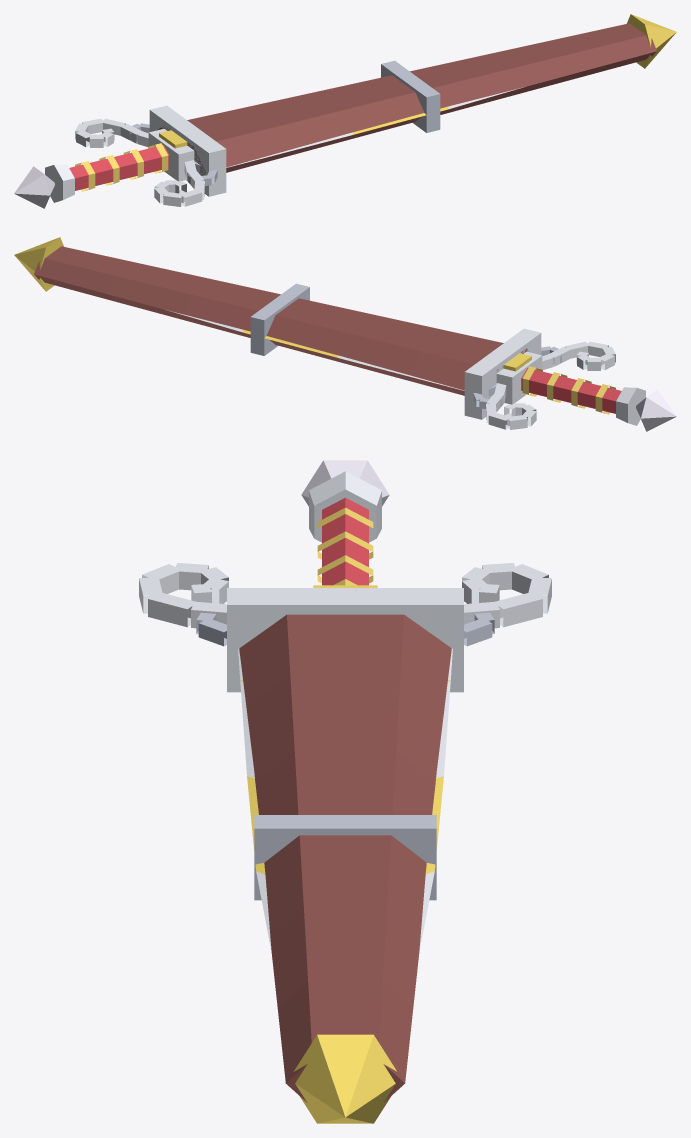
Rendered from gilded_sword.glb.
3 views of the same model, one above another, from view 1: azimuth 30°, elevation 25°; view 2: azimuth 150°, elevation 25°; view 3: azimuth 270°, elevation 25° (orthographic). The views are drawn at different scales.
Parts seen in each view (by area): view 1: GildedScabbard, GildedHilt, GildedBlade; view 2: GildedScabbard, GildedHilt, GildedBlade; view 3: GildedScabbard, GildedHilt, GildedBlade.
Boxes of the visible parts, x1,y1,x2,y2 form: GildedScabbard: (149,14,676,196); GildedHilt: (14,118,217,208); GildedBlade: (226,87,523,167); GildedScabbard: (14,237,541,419); GildedHilt: (473,341,676,431); GildedBlade: (167,310,464,390); GildedScabbard: (227,588,463,1123); GildedHilt: (139,460,551,646); GildedBlade: (238,648,452,951).
Size of the model in its own units: 0.762 by 0.0489 by 0.2055.
